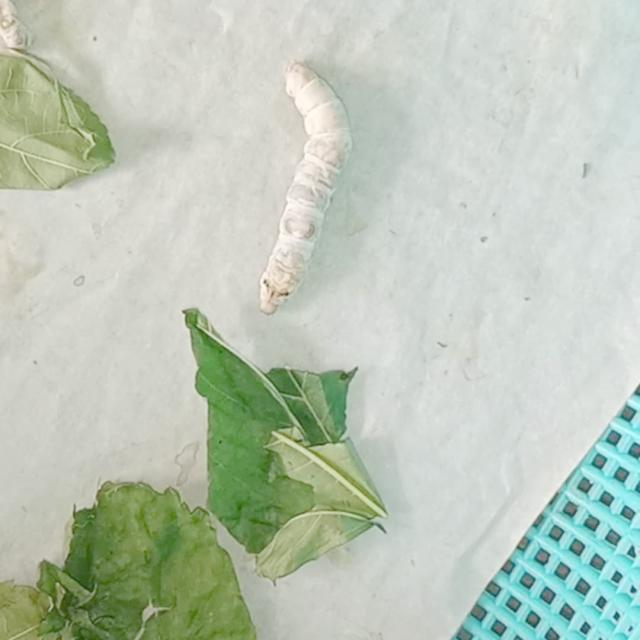Grasserie: (230, 40, 417, 339)
